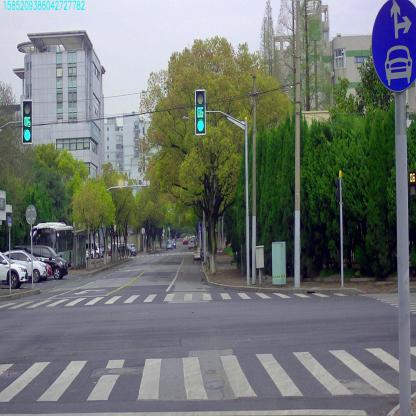traffic-light: (195, 90, 205, 134), (22, 100, 32, 144)
